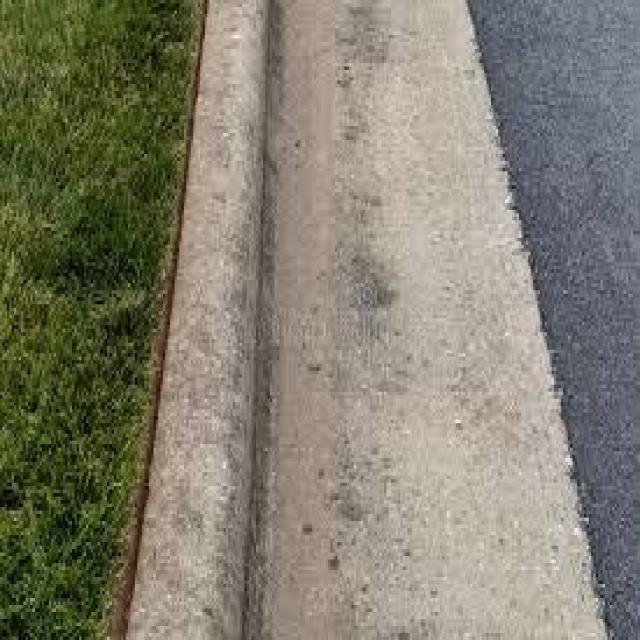curb: (176, 1, 278, 415), (133, 335, 258, 640)
